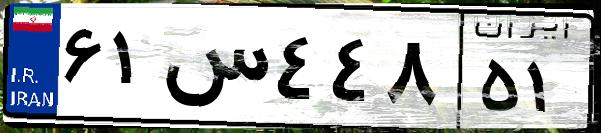1: (525, 38, 570, 115), (110, 28, 158, 98)
4: (270, 28, 330, 110), (330, 28, 385, 110)
5: (475, 38, 525, 113)
6: (57, 26, 110, 100)
8: (385, 28, 445, 110)
س: (158, 20, 270, 120)
